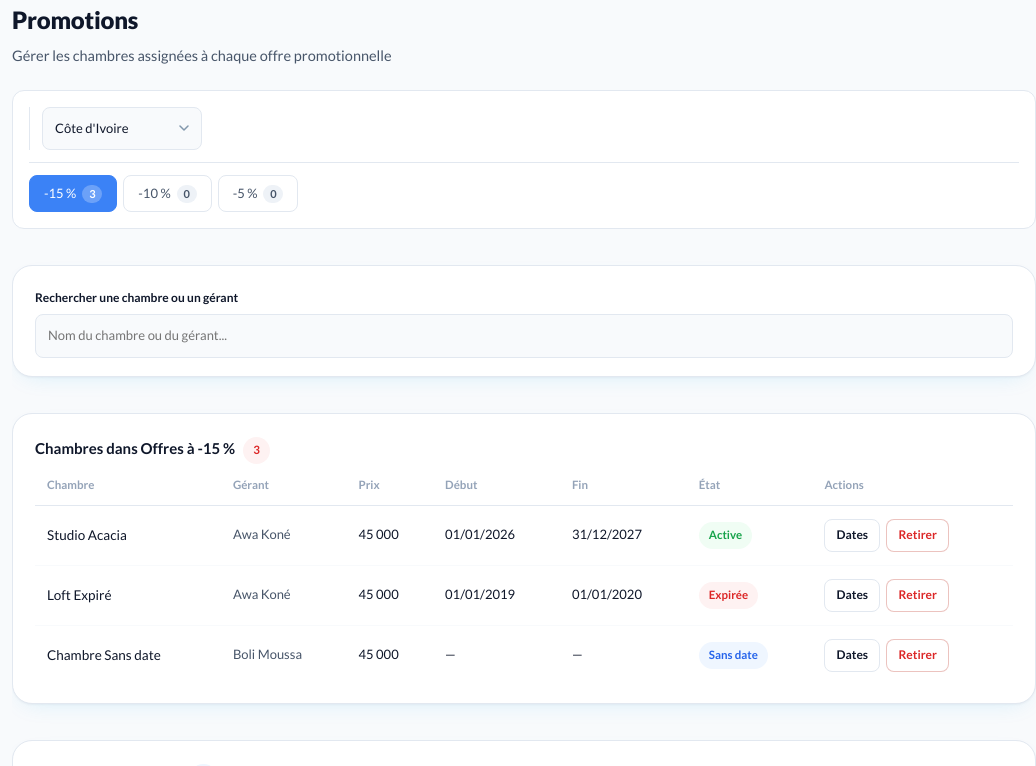
Test case: AdminPromotionsPage › filtre les deux tableaux par titre de chambre
The width and height of the screenshot is (1036, 766).
Type "acacia" into the field with placeholder "Nom du chambre ou du gérant..." at point(524, 336), box [35,314,1013,358]
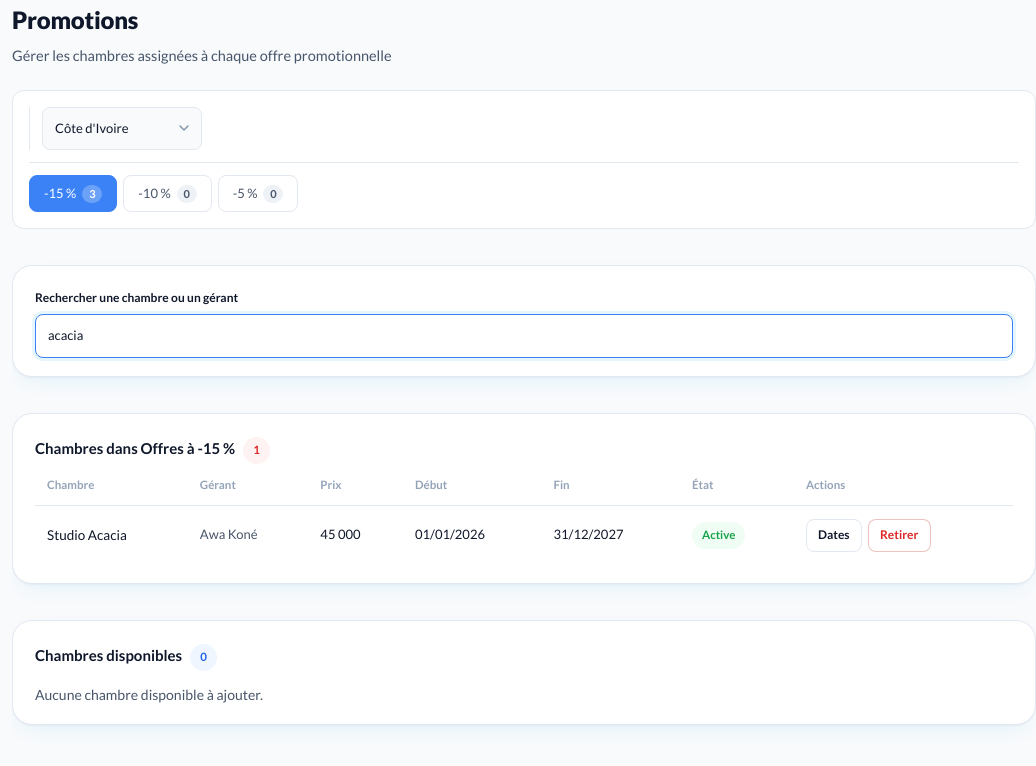
Expected: the text "Studio Acacia" is shown, [35,505,188,564]
Now the text "Loft Expiré" is gone
Now the text "Aucune chambre disponible à ajouter." is shown, box [35,686,263,702]
